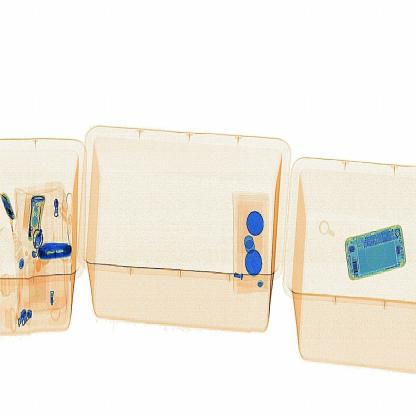scissors: (33, 234, 84, 264)
